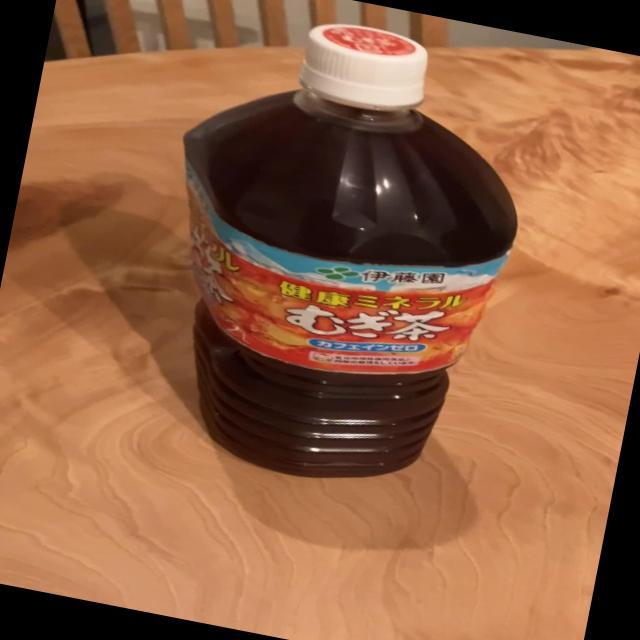good: (121, 0, 553, 512)
